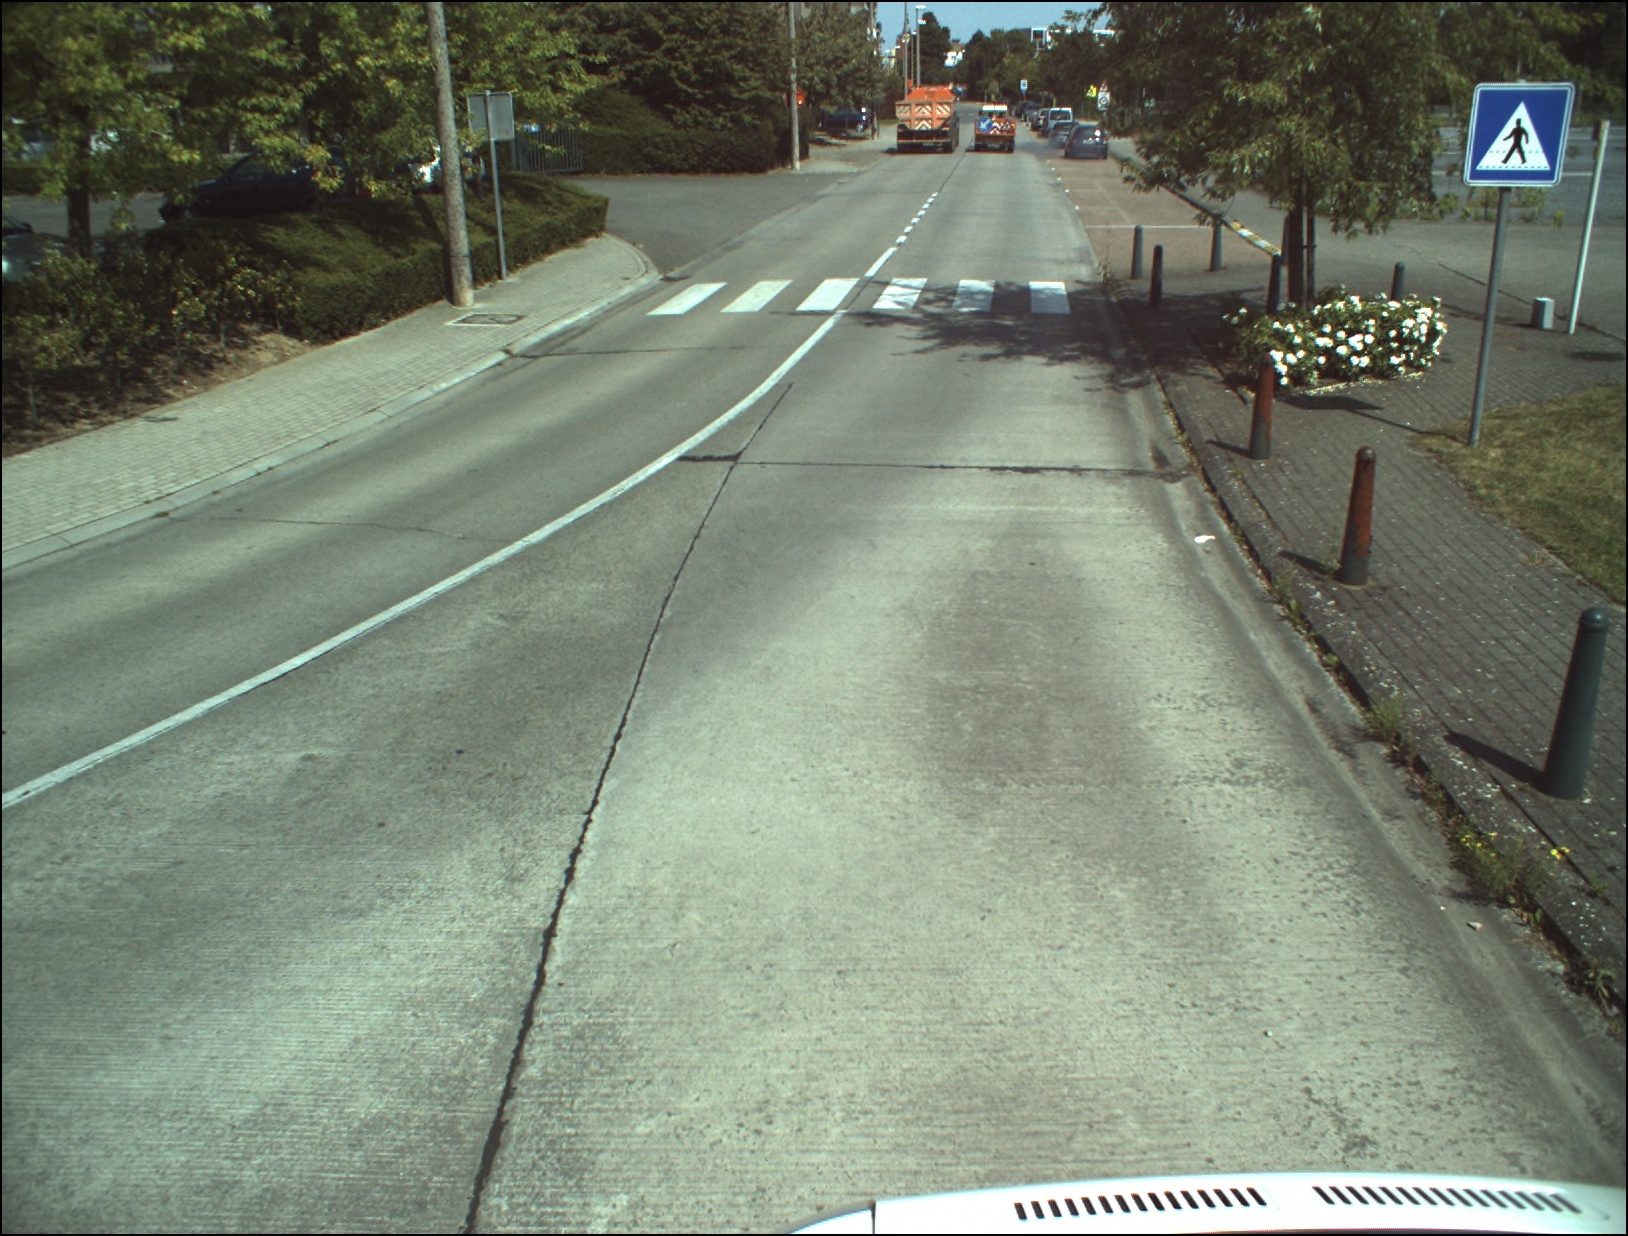construction: (999, 119, 1017, 136)
passleft: (979, 116, 994, 129)
pedestrian: (1468, 84, 1570, 186)
